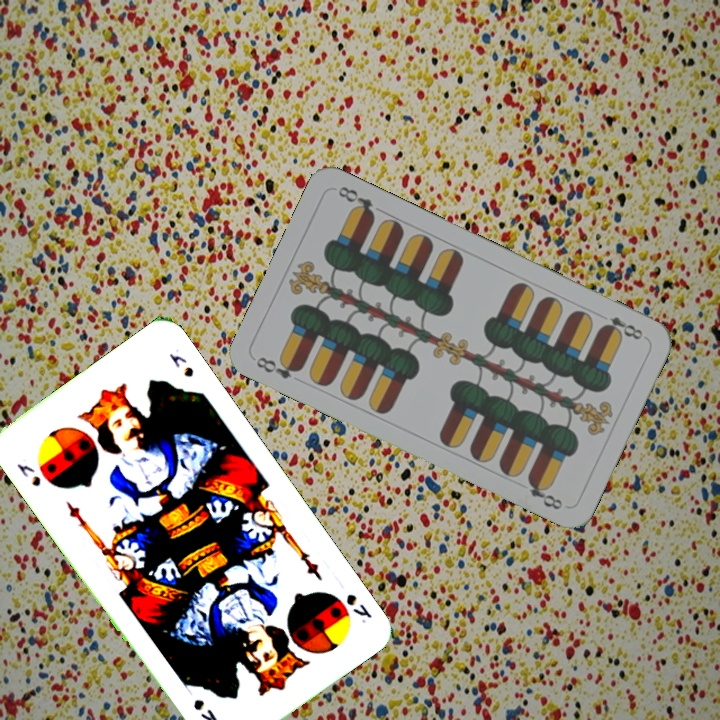E8: (252, 352, 305, 382), (597, 312, 646, 343)
SK: (342, 589, 375, 626), (13, 459, 44, 490)
